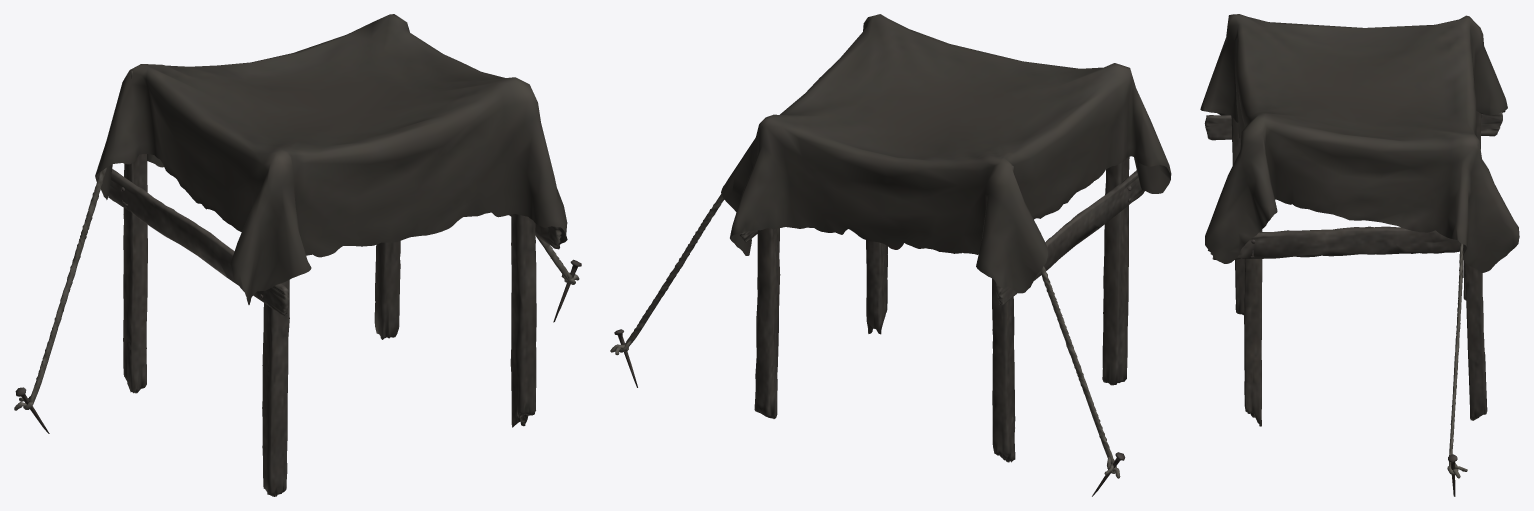
The model's file is CTent_03.fbx.
The picture shows the model from 3 angles, left to right: view 1: azimuth 30°, elevation 25°; view 2: azimuth 150°, elevation 25°; view 3: azimuth 270°, elevation 25°; orthographic projection. The views are drawn at different scales.
Visible parts, largest first — view 1: CTent_03, CFrame_03; view 2: CTent_03, CFrame_03; view 3: CTent_03, CFrame_03.
Boxes of the visible parts, x1,y1,x2,y2 form: CTent_03: (95,14,567,304); CFrame_03: (14,71,581,496); CTent_03: (721,14,1171,293); CFrame_03: (610,125,1144,496); CTent_03: (1200,14,1519,272); CFrame_03: (1204,111,1502,496).
Size of what is drawn, in the model's own units: 706 by 434 by 398.
